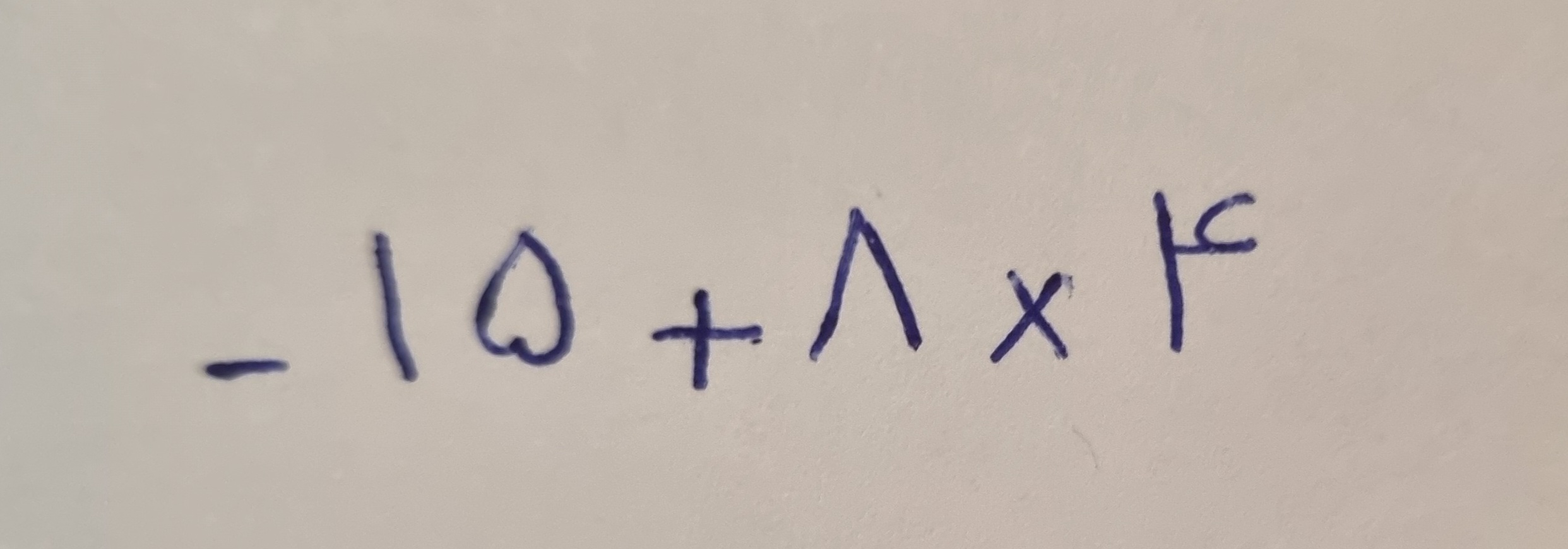character: (1149, 187, 1263, 358), (806, 204, 926, 366), (472, 226, 585, 376), (647, 286, 766, 393), (369, 229, 429, 390), (987, 266, 1075, 366), (201, 358, 305, 395)
